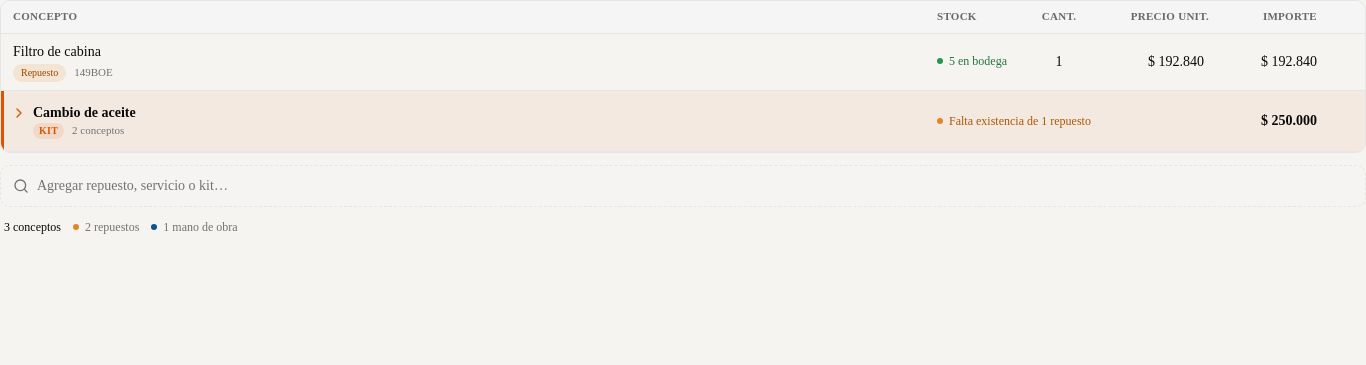
Test case: TablaConceptos › muestra el kit cerrado como una fila con su subtotal y el aviso de existencia
Expected: the text "Falta existencia de 1 repuesto" is shown, [937,114,1091,128]
Expected: the text "$ 250.000" is shown, [1217,90,1325,152]
What coordinates should you click on to do the following:
click the button with aria-label "Abrir el kit Cambio de aceite"
I would click on:
 (84, 112)
Its box is [5,99,929,143].
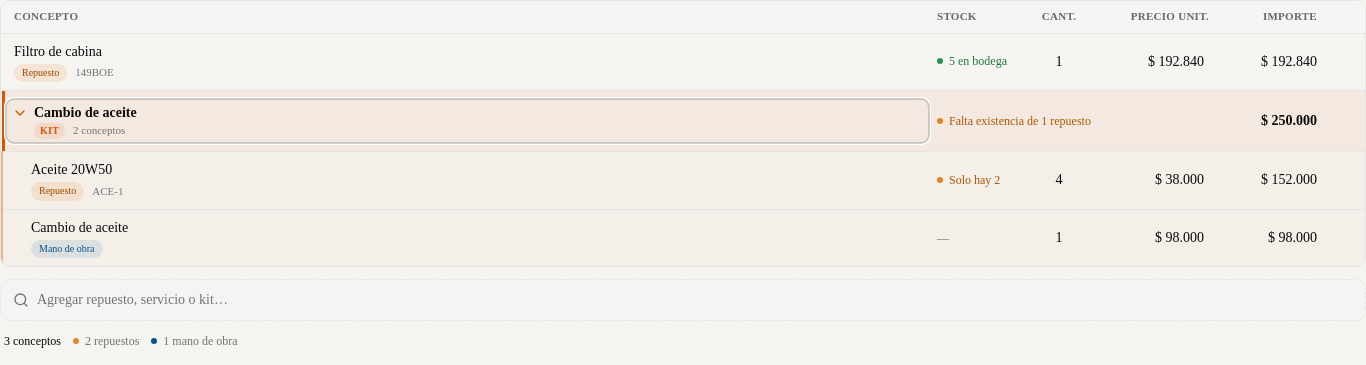
Result: the field named "Cantidad de Aceite 20W50" is shown at [1025,164,1093,196]
Result: the text "Solo hay 2" is shown at [937,173,1000,187]
